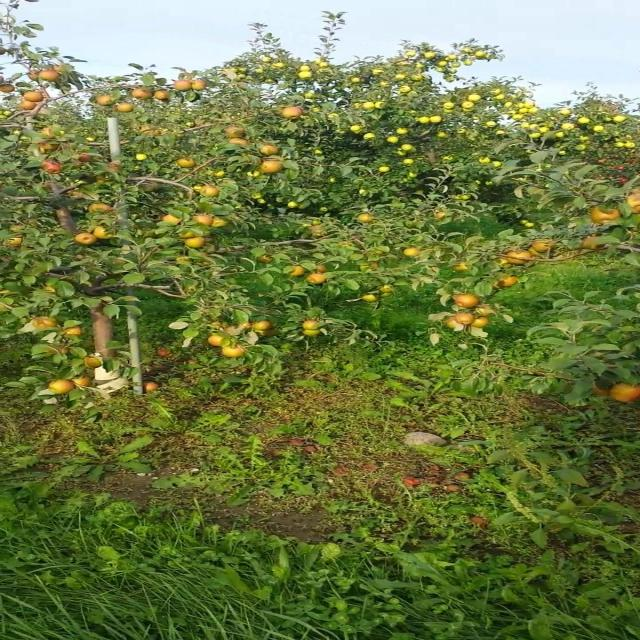apple: (611, 384, 639, 403), (589, 208, 620, 223), (220, 344, 249, 359), (49, 380, 75, 394), (582, 236, 604, 251), (454, 296, 480, 308), (262, 160, 284, 174), (77, 232, 100, 245), (92, 228, 116, 240), (205, 336, 228, 348), (532, 240, 555, 252), (84, 356, 107, 368), (184, 236, 206, 248), (35, 316, 57, 328), (511, 252, 533, 264), (6, 236, 25, 248), (191, 216, 213, 226), (284, 108, 304, 119), (42, 164, 64, 174), (255, 320, 274, 331), (262, 144, 279, 156), (63, 328, 85, 337), (92, 204, 114, 213), (476, 308, 498, 317), (596, 384, 612, 396), (42, 128, 59, 139), (134, 88, 149, 100), (177, 80, 192, 92), (191, 80, 206, 92), (77, 376, 92, 388), (163, 216, 183, 225), (227, 128, 247, 137), (42, 72, 62, 81), (305, 276, 327, 284), (454, 316, 476, 324), (255, 328, 277, 336), (49, 348, 71, 356), (42, 284, 59, 294), (504, 276, 519, 287), (177, 160, 197, 168), (177, 232, 197, 240), (305, 328, 324, 336), (28, 92, 43, 102), (447, 320, 462, 330), (56, 208, 71, 218), (191, 184, 206, 194), (362, 296, 380, 304), (404, 248, 421, 256), (212, 220, 229, 228), (99, 96, 114, 105), (312, 228, 327, 237), (227, 140, 249, 146), (632, 196, 639, 214), (305, 320, 320, 328), (156, 92, 171, 100), (291, 268, 306, 276), (476, 320, 491, 328), (120, 104, 135, 112), (205, 188, 220, 196), (42, 144, 57, 152), (454, 264, 469, 272), (177, 256, 192, 264), (28, 72, 43, 80), (106, 164, 121, 172), (433, 212, 448, 220), (20, 104, 37, 111), (234, 324, 251, 331), (262, 256, 276, 264), (497, 260, 512, 267), (49, 64, 64, 71), (362, 216, 375, 224), (248, 172, 265, 177), (383, 288, 395, 295), (212, 172, 228, 177), (42, 184, 55, 190), (77, 156, 92, 161), (134, 156, 149, 161), (499, 280, 503, 288), (6, 88, 14, 92)
